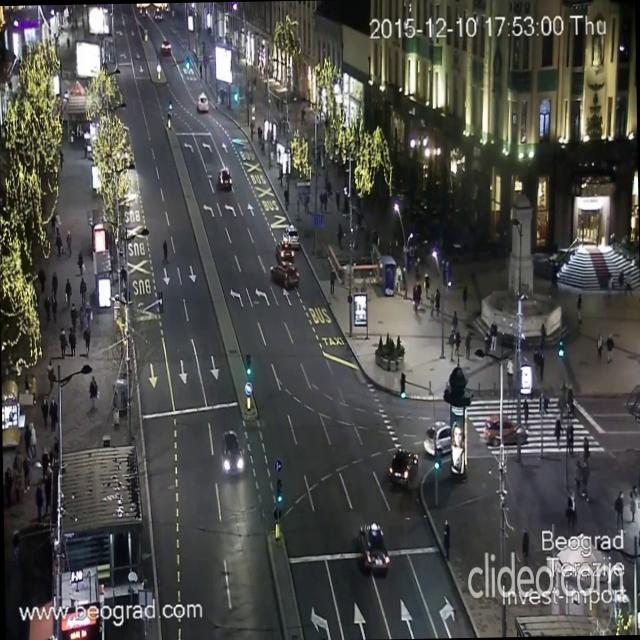car: (358, 520, 390, 572), (387, 447, 418, 487), (485, 412, 523, 442), (220, 428, 244, 475), (422, 419, 451, 457), (268, 259, 296, 285), (217, 166, 232, 188), (284, 227, 300, 246), (274, 246, 292, 262), (196, 92, 208, 112), (160, 38, 170, 53)
